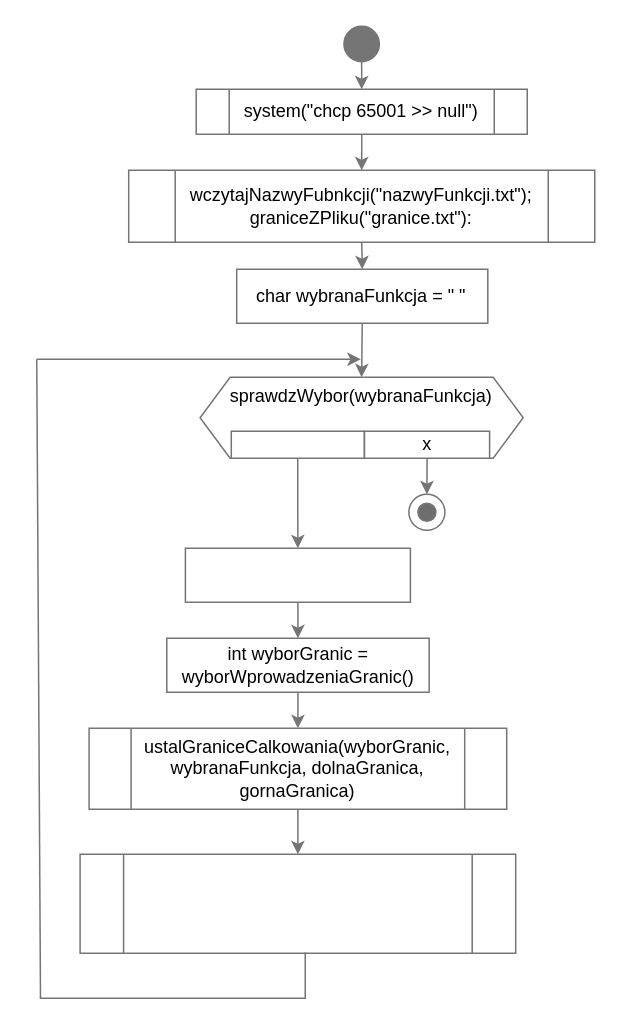
The diagram is 621 pixels wide and 1026 high, and some of its shapes have lost their labels. The centre of each missing label's shape, as x and y in pixels:
a, b, c, d, e, f, g: point 297,444
double dolnaGranica, gornaGranica: point 297,574
obliczIZaprezentujWynik(wybranaFunkcja, dolnaGranica, gornaGranica): point 297,903
